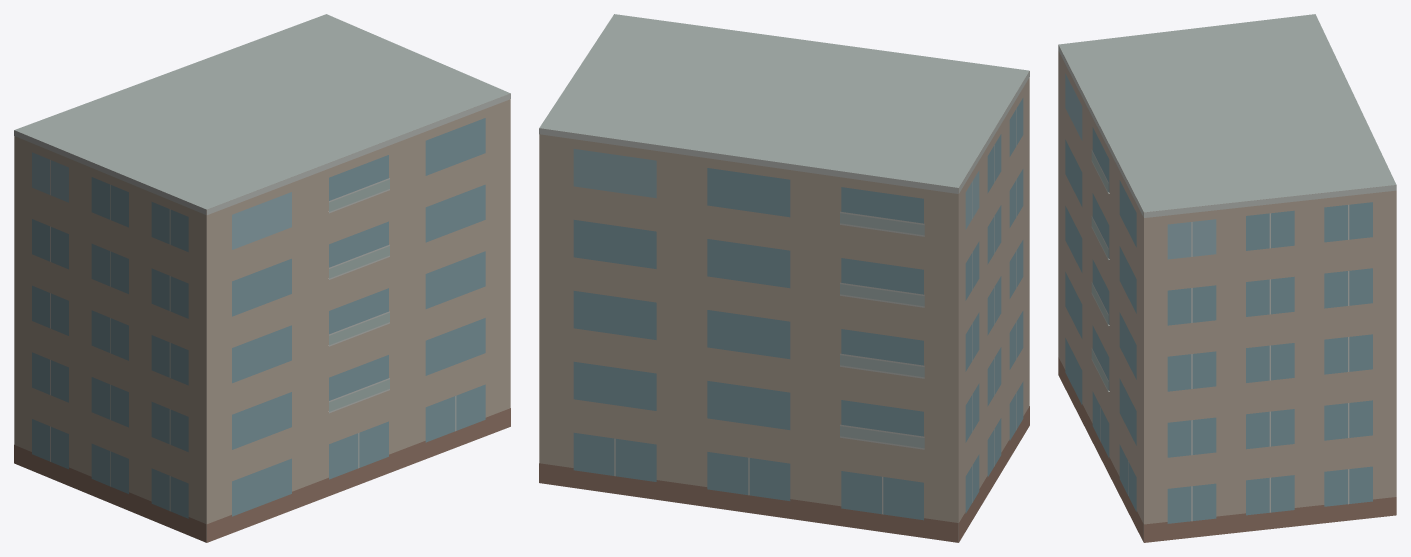
Rendered from survey-upis-32650915.glb.
The picture shows the model from 3 angles, left to right: view 1: azimuth 30°, elevation 25°; view 2: azimuth 150°, elevation 25°; view 3: azimuth 270°, elevation 25°; orthographic projection. The views are drawn at different scales.
Parts seen in each view (by area): view 1: survey-upis-32650915.tmp; view 2: survey-upis-32650915.tmp; view 3: survey-upis-32650915.tmp.
Part boxes in pixels (<box>): survey-upis-32650915.tmp: <box>14,14,510,542</box>; survey-upis-32650915.tmp: <box>539,14,1029,542</box>; survey-upis-32650915.tmp: <box>1058,14,1396,542</box>.
Size of the model in its own units: 18.3 by 14.2 by 13.18.
